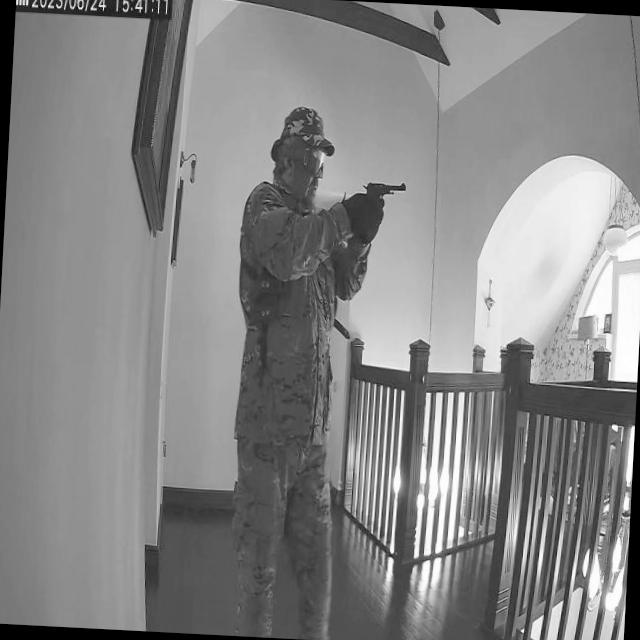gun: (362, 177, 411, 226)
person with a gun: (220, 100, 418, 640)
